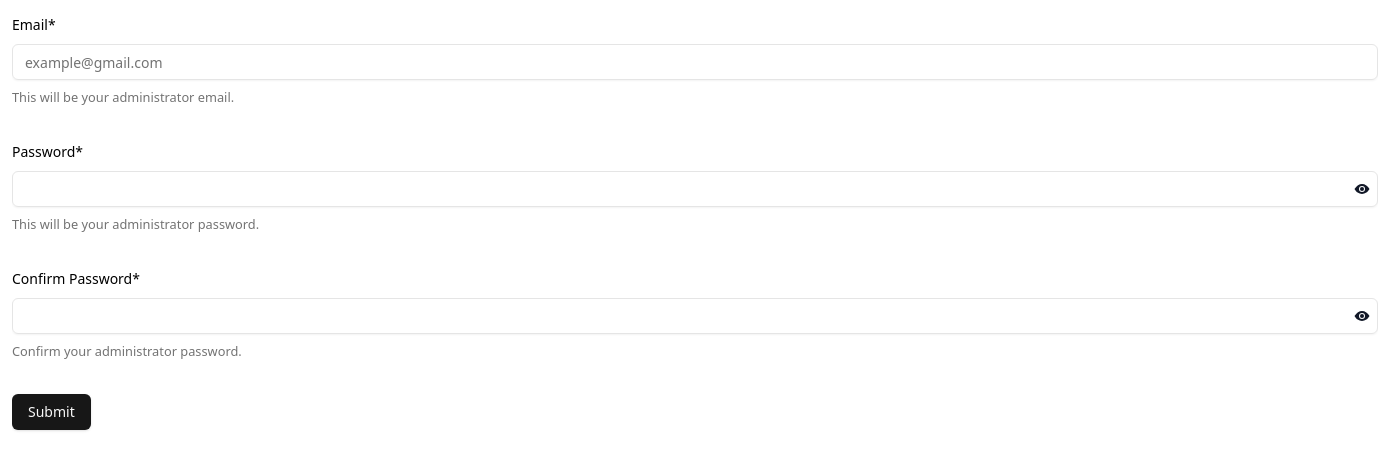
Test: AdminForm › throws error if passwords do not match
This screenshot has width=1390, height=475.
Type "test@example.com" into the field with placeholder "example@gmail.com" at [695, 62], box [12,44,1378,80]
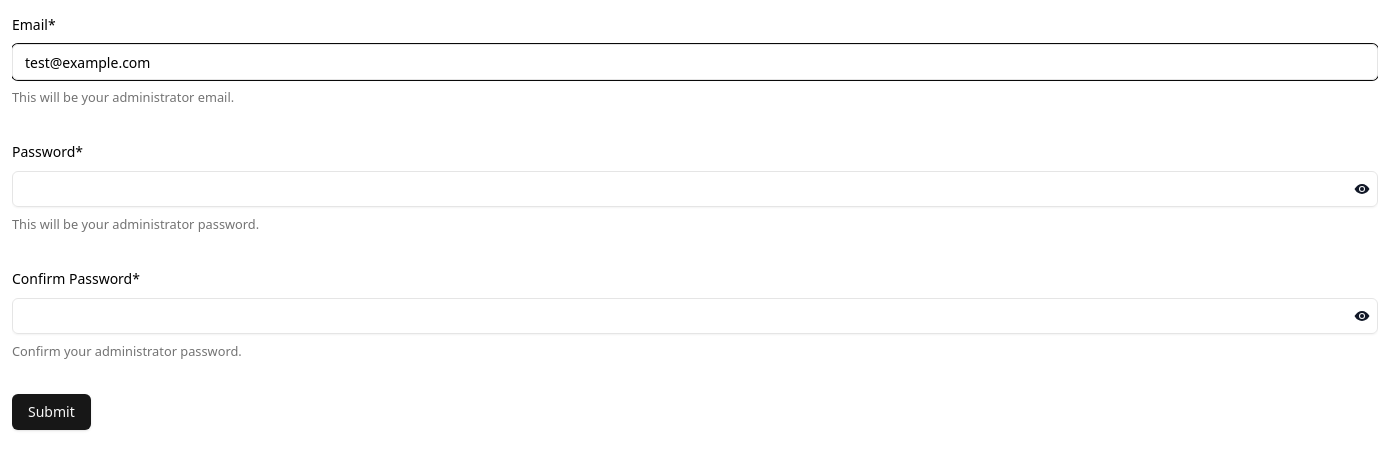
Type "password" into the password field labelled "Password*" at [695, 189], box [12,171,1378,207]
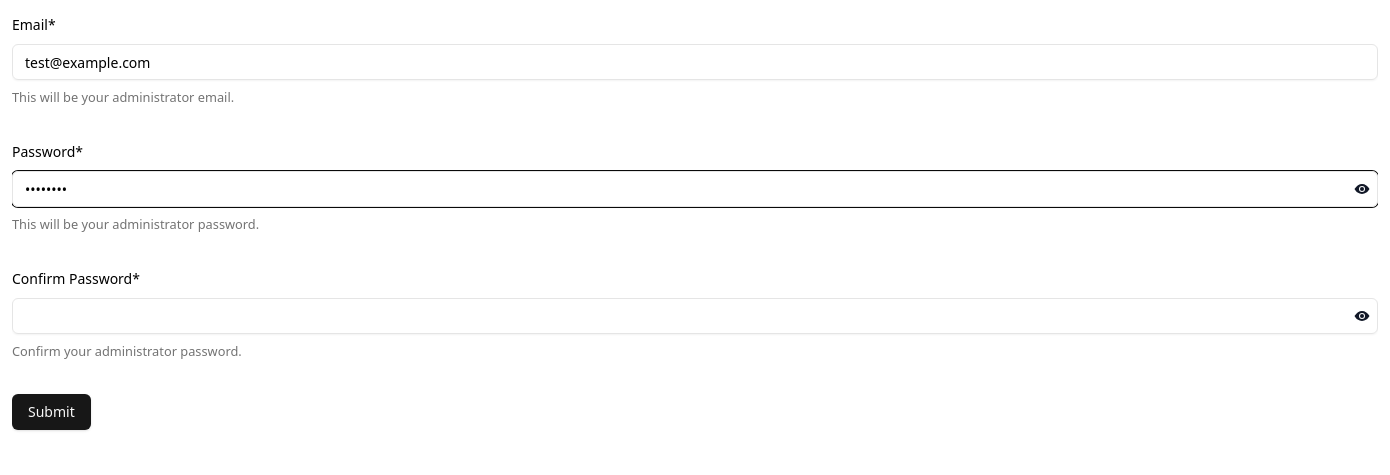
Type "passwrod" into the password field labelled "Confirm Password*" at [695, 316], box [12,298,1378,334]
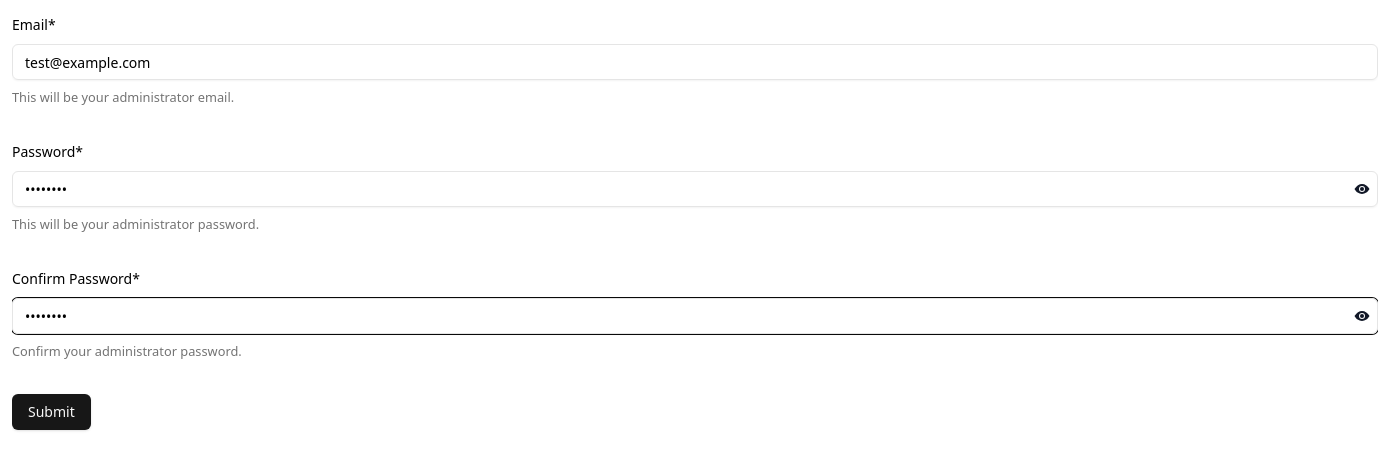
Click the button "Submit" at [51, 412], box [12,394,91,430]
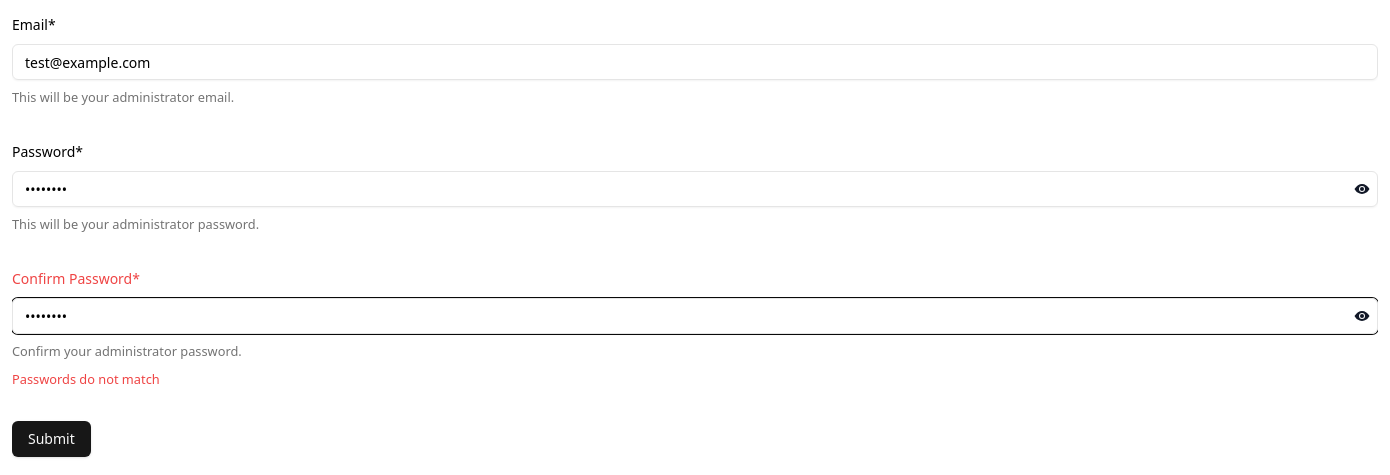
Check: the text "Passwords do not match" is shown, box [12,370,160,388]
